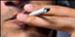Cigarette: (26, 6, 50, 15)
